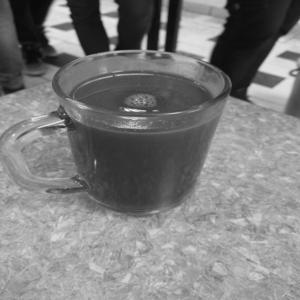coffee: (35, 41, 256, 241)
